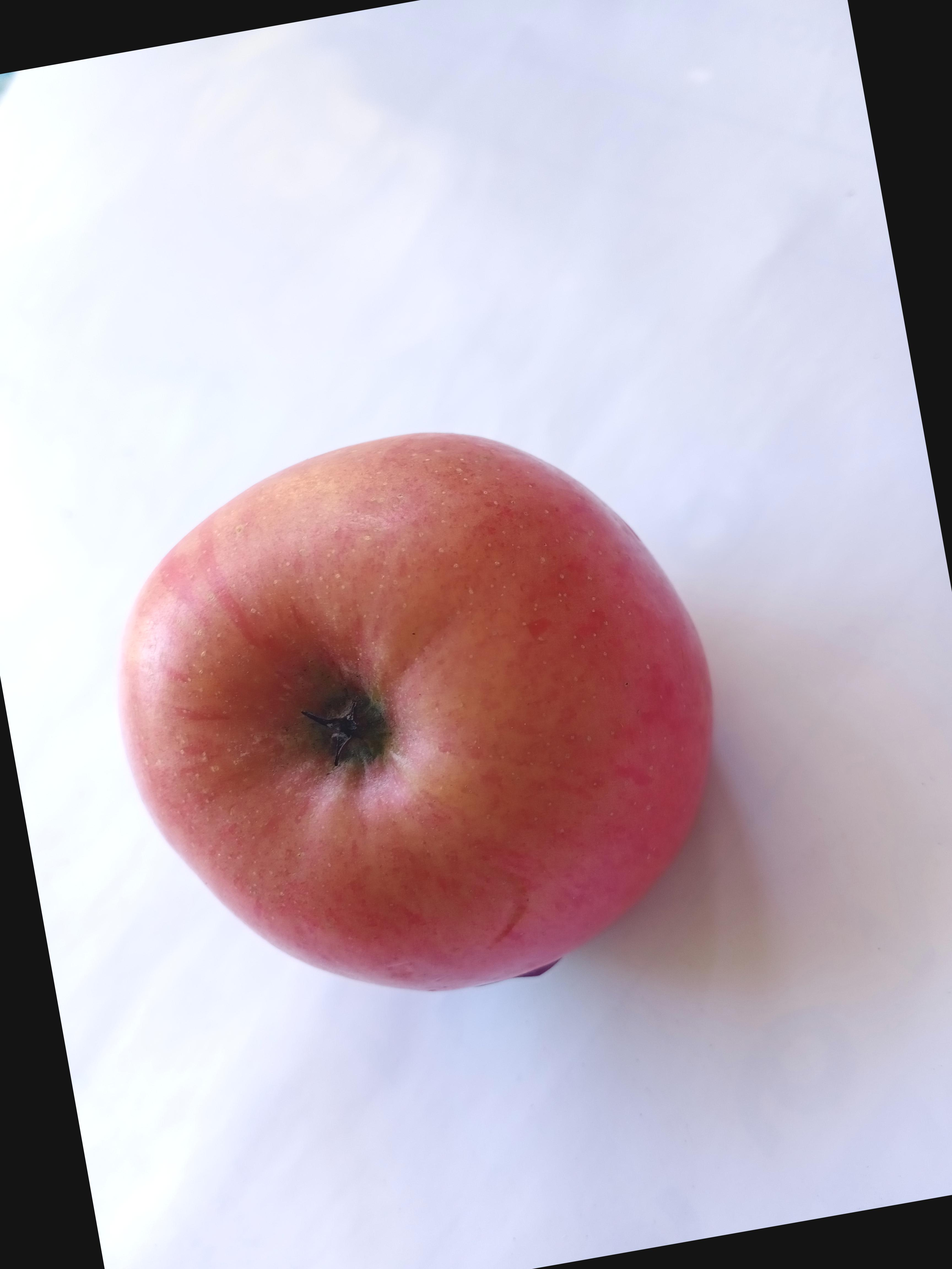Apple Ripe: (0, 499, 644, 1173)
